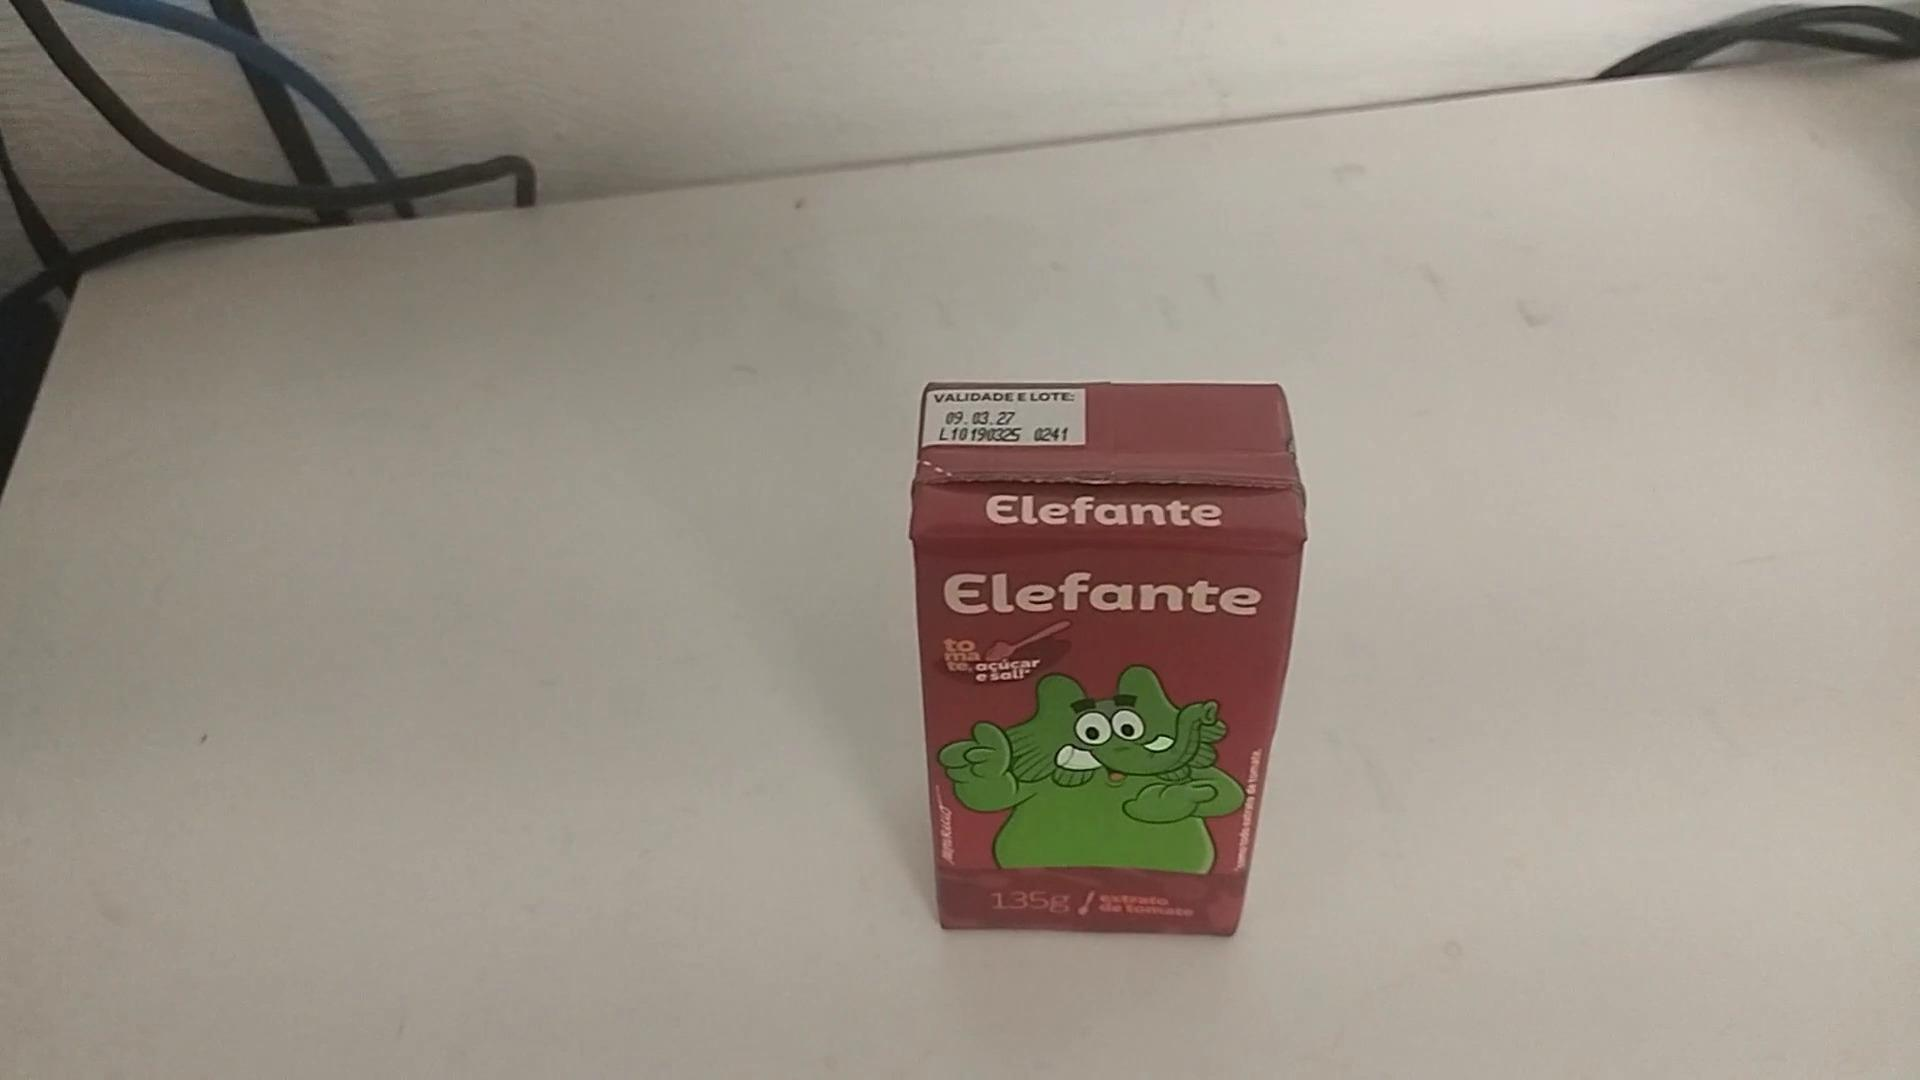tomate: (897, 368, 1309, 934)
